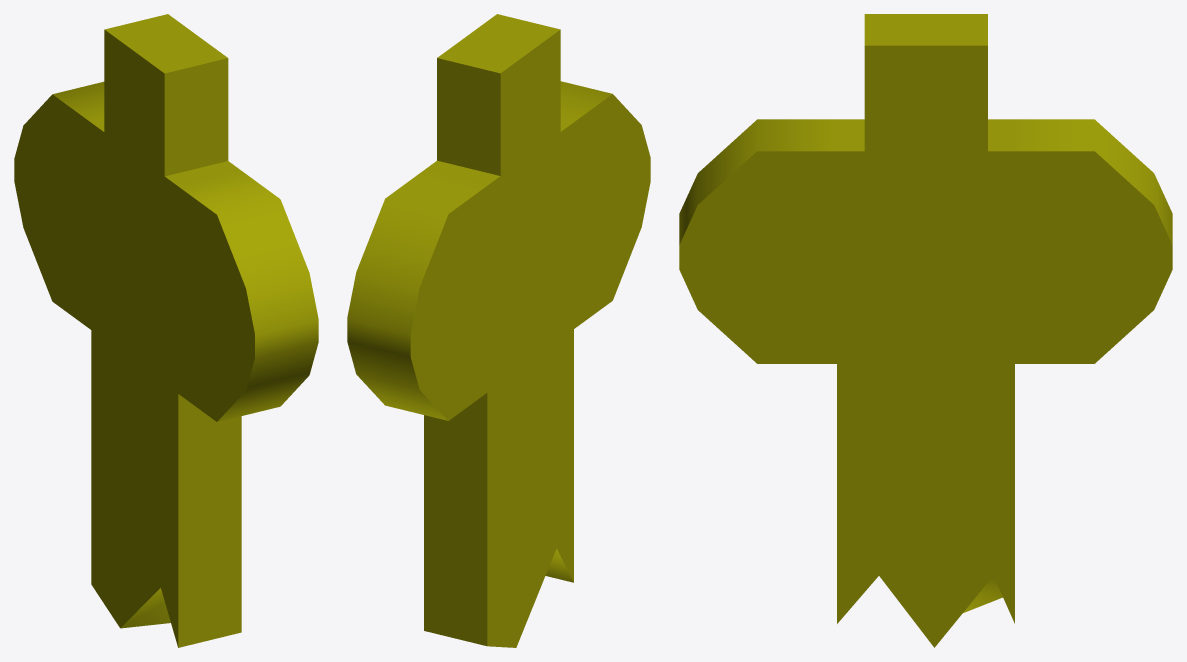
Rendered from cross2.fbx.
3 views of the same model, side by side, from view 1: azimuth 30°, elevation 25°; view 2: azimuth 150°, elevation 25°; view 3: azimuth 270°, elevation 25° (orthographic). The views are drawn at different scales.
Visible parts, largest first — view 1: pCube1; view 2: pCube1; view 3: pCube1.
Boxes of the visible parts, <box> form: pCube1: <box>14,14,318,647</box>; pCube1: <box>347,14,650,647</box>; pCube1: <box>679,14,1172,647</box>.
Bounding box in the file's own units: 1.05 × 9.27 × 6.88.
